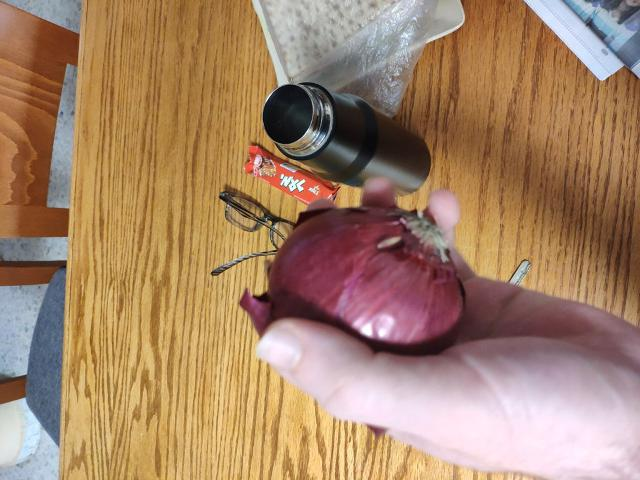onion: (288, 209, 467, 378)
